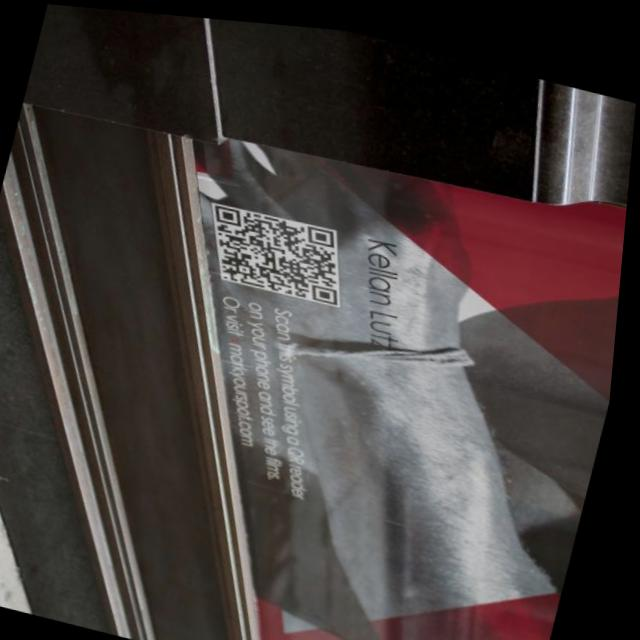qrcode: (201, 199, 359, 301)
